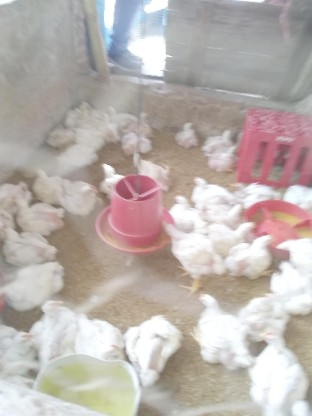Pollos: (252, 331, 308, 416), (159, 215, 216, 283), (196, 289, 244, 365), (129, 308, 184, 373), (0, 262, 67, 308), (226, 230, 282, 276), (0, 226, 63, 266), (265, 257, 312, 309), (37, 296, 77, 353), (0, 327, 46, 373), (80, 311, 123, 360), (244, 292, 288, 338), (11, 195, 64, 233), (62, 177, 103, 223), (131, 152, 169, 193), (0, 174, 38, 205), (95, 160, 126, 196), (189, 175, 226, 205), (164, 190, 198, 222), (204, 220, 258, 240), (33, 166, 63, 201), (274, 235, 312, 262), (59, 146, 97, 173), (227, 181, 277, 201), (290, 175, 312, 215), (211, 146, 240, 176), (171, 115, 195, 151), (203, 126, 235, 150), (216, 203, 247, 222), (99, 109, 117, 141), (122, 132, 146, 155), (79, 128, 104, 148), (107, 103, 117, 121)
